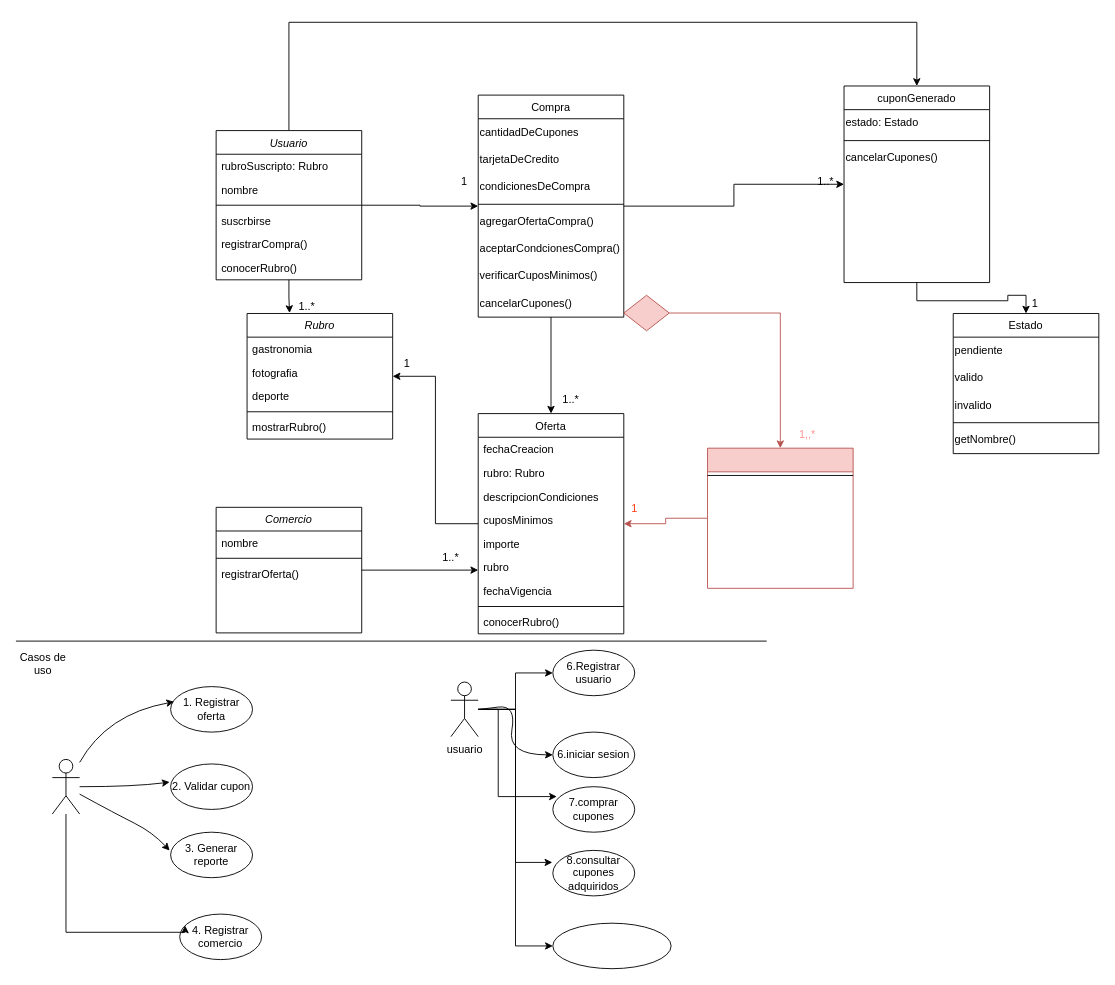
Some shapes in this 1115 by 985 pixel diagram are drawn without their labels. The shapes that lost their labels are listed below. From the top down, each one's centre as x and y in pixels, then its label:
the point at 780,517: DetalleCompra
the point at 65,786: Comercio adherido
the point at 611,945: 9.consultar reporte del importe ahorrado
